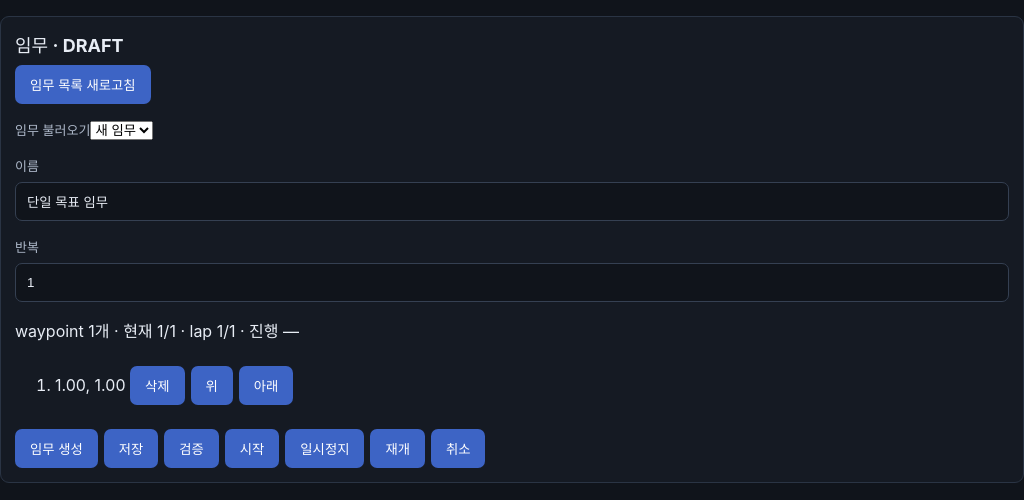
progress renders current waypoint, lap and distance from mission snapshot
The width and height of the screenshot is (1024, 500).
What coordinates should you click on to do the following:
click the button "임무 생성"
I would click on:
 (56, 448)
Its box is [15,429,98,468].
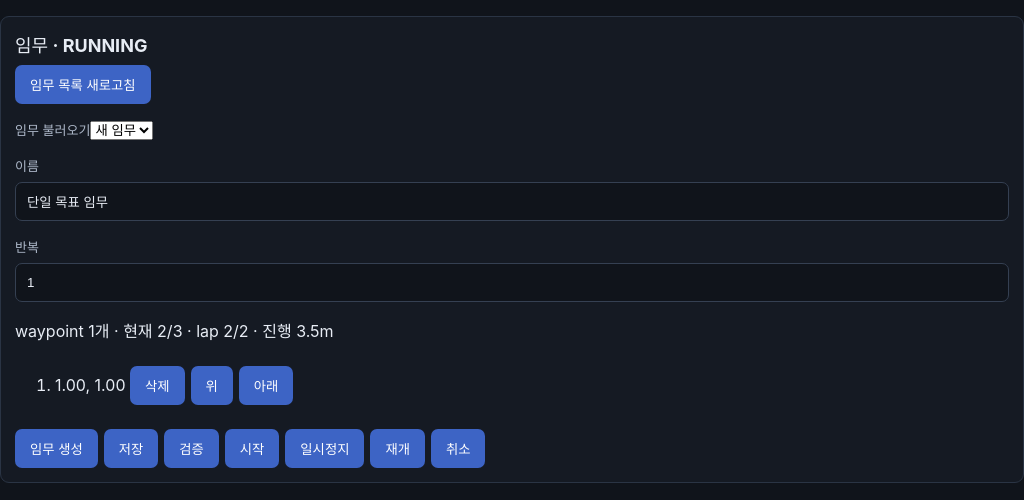
Now the text with test id "mission-progress" shows "현재 2/3 · lap 2/2 · 진행 3.5m", box [15,321,334,341]
